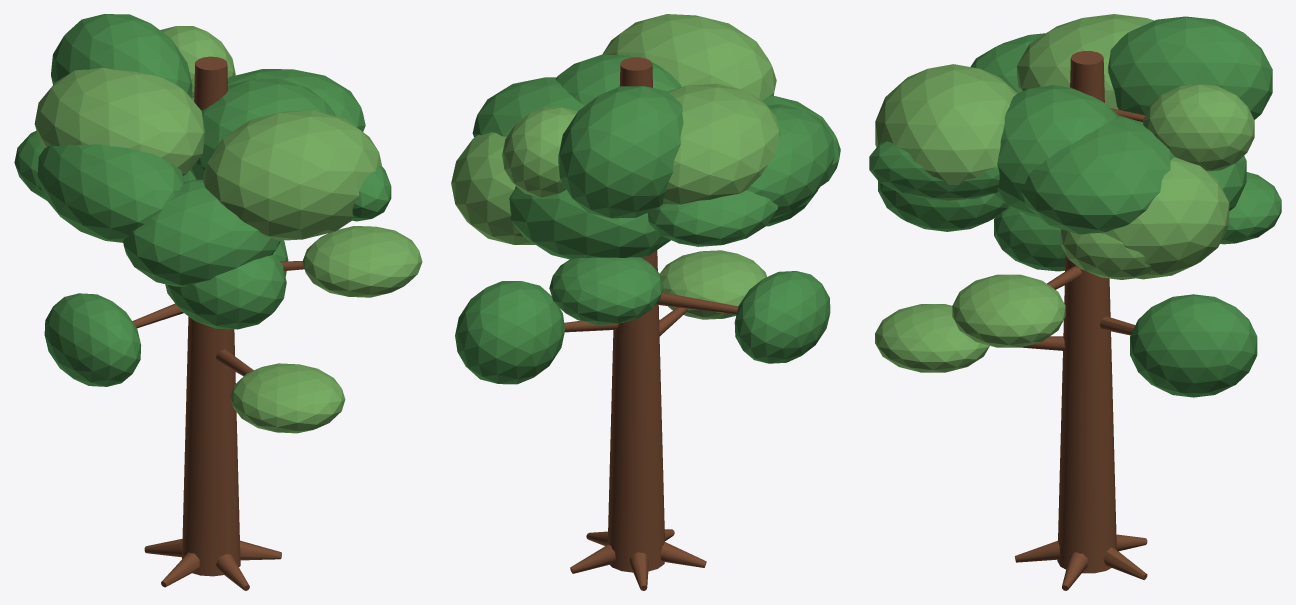
Rendered from broad-canopy.glb.
3 renders of one model, left to right at view 1: azimuth 30°, elevation 25°; view 2: azimuth 150°, elevation 25°; view 3: azimuth 270°, elevation 25°, orthographic.
Parts seen in each view (by area): view 1: crown-0, trunk, crown-6, crown-7, crown-8, foliage-2, foliage-3, crown-5, foliage-0, foliage-5, crown-1, crown-2 (+6 smaller); view 2: trunk, crown-5, crown-6, foliage-1, crown-0, crown-4, foliage-2, foliage-4, crown-7, crown-3, foliage-7, foliage-0 (+8 smaller); view 3: trunk, crown-0, crown-2, crown-5, foliage-1, crown-3, crown-1, foliage-9, foliage-3, foliage-0, crown-6, foliage-8 (+9 smaller).
Boxes of the visible parts, x1,y1,x2,y2 form: crown-0: [202, 110, 381, 240]; trunk: [182, 56, 240, 576]; crown-6: [34, 67, 204, 175]; crown-7: [37, 144, 184, 242]; crown-8: [123, 179, 280, 286]; foliage-2: [44, 293, 141, 386]; foliage-3: [302, 226, 422, 297]; crown-5: [51, 14, 192, 97]; foliage-0: [230, 363, 345, 433]; foliage-5: [165, 253, 286, 329]; crown-1: [190, 78, 335, 179]; crown-2: [227, 69, 365, 131]; trunk: [607, 57, 664, 572]; crown-5: [558, 86, 683, 218]; crown-6: [663, 83, 780, 204]; foliage-1: [455, 281, 565, 384]; crown-0: [602, 14, 776, 100]; crown-4: [509, 186, 670, 259]; foliage-2: [734, 271, 830, 363]; foliage-4: [549, 257, 663, 324]; crown-7: [747, 104, 834, 218]; crown-3: [451, 132, 535, 244]; foliage-7: [647, 190, 778, 246]; foliage-0: [660, 250, 766, 319]; trunk: [1057, 51, 1116, 573]; crown-0: [875, 64, 1017, 201]; crown-2: [1020, 115, 1174, 234]; crown-5: [1108, 16, 1272, 119]; foliage-1: [1130, 294, 1257, 397]; crown-3: [1059, 157, 1229, 279]; crown-1: [993, 85, 1117, 216]; foliage-9: [1143, 83, 1254, 171]; foliage-3: [952, 274, 1065, 347]; foliage-0: [875, 304, 989, 372]; crown-6: [1017, 14, 1154, 109]; foliage-8: [869, 141, 999, 200].
Bounding box in the file's own units: 3.73 × 5.52 × 3.98.
